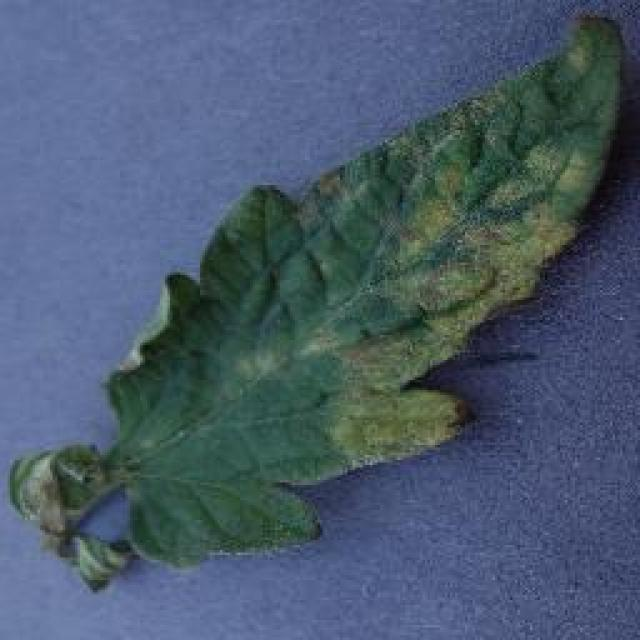Tomato mold leaf: (111, 3, 624, 570)
